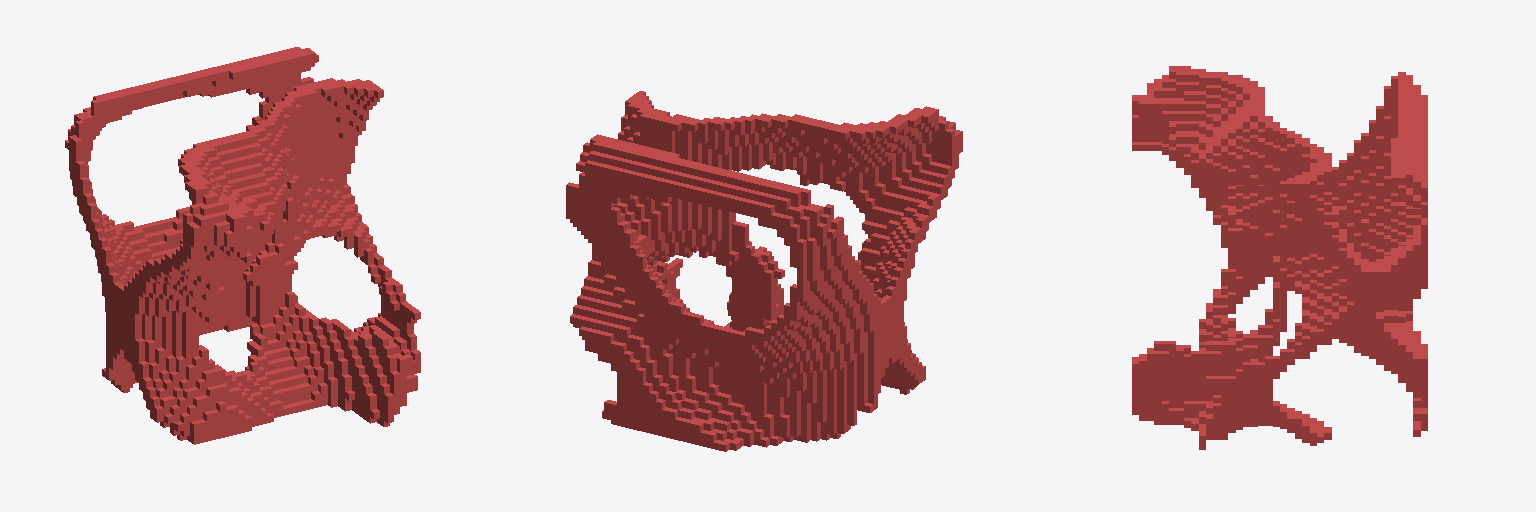
The picture shows the model from 3 angles: view 1: azimuth 30°, elevation 25°; view 2: azimuth 150°, elevation 25°; view 3: azimuth 270°, elevation 25°; orthographic projection.
Visible parts, largest first — view 1: object 1; view 2: object 1; view 3: object 1.
Part boxes in pixels (x1,y1,x2,y2): object 1: (65, 47, 420, 444); object 1: (566, 91, 962, 451); object 1: (1132, 66, 1427, 449).
Size of the model in its own units: 4 by 4 by 4.
Materials: 1 (1 with a texture image).